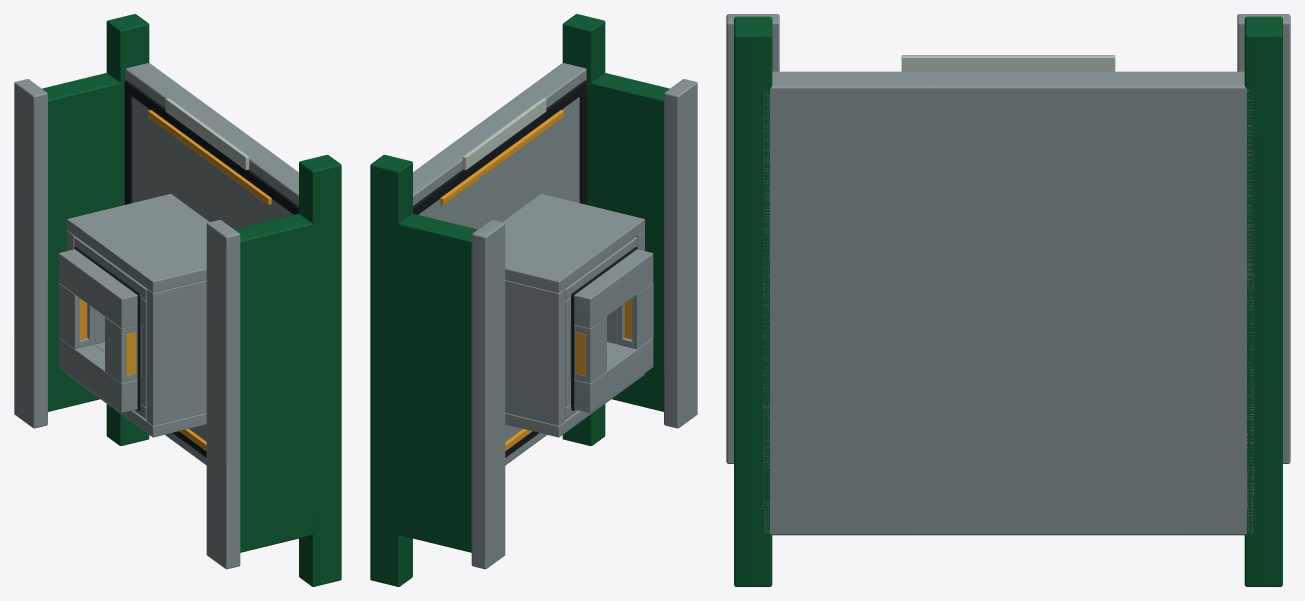
The model's file is ore-receiver.glb.
The picture shows the model from 3 angles, left to right: view 1: azimuth 30°, elevation 25°; view 2: azimuth 150°, elevation 25°; view 3: azimuth 270°, elevation 25°; orthographic projection. The views are drawn at different scales.
Visible parts, largest first — view 1: Pioneer additive ore receiver body-space; view 2: Pioneer additive ore receiver body-space; view 3: Pioneer additive ore receiver body-space.
Boxes of the visible parts, x1=… form: Pioneer additive ore receiver body-space: x1=14, y1=14, x2=341, y2=586; Pioneer additive ore receiver body-space: x1=370, y1=14, x2=697, y2=586; Pioneer additive ore receiver body-space: x1=726, y1=14, x2=1290, y2=586.
Size of the model in its own units: 0.6 by 1.6 by 1.48.
